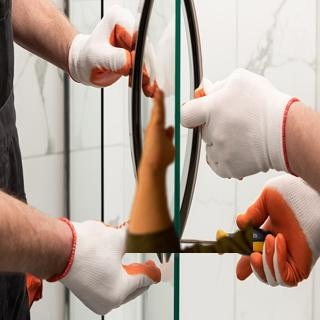RIGHT: (137, 86, 177, 170)
